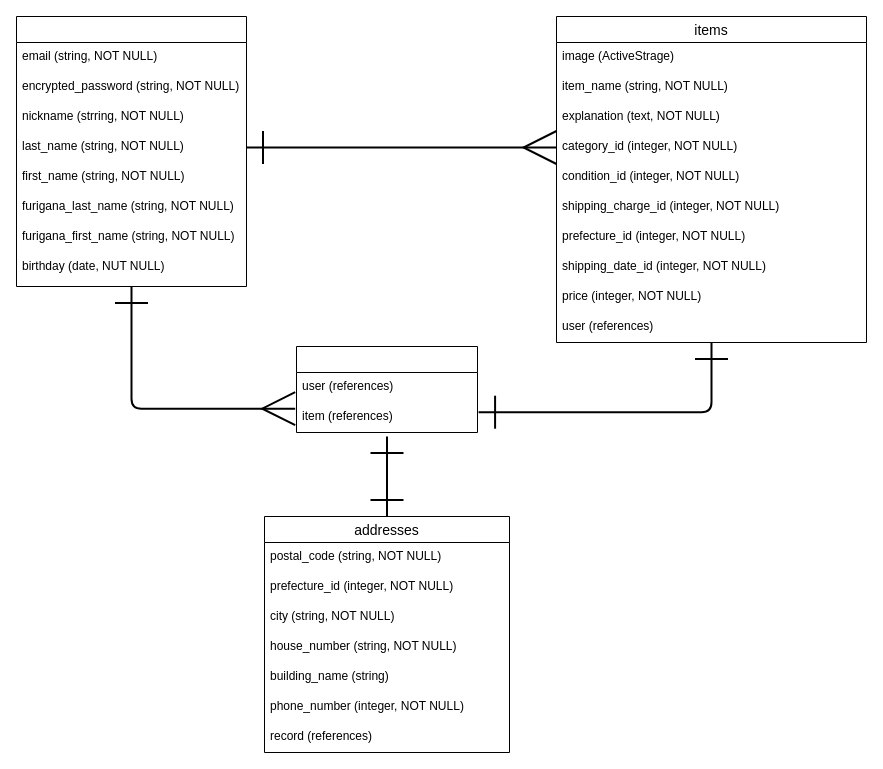
This 883x769 diagram has some shape labels left out. Here are the shapes that lost their labels. From the top down, the box of each, then its label:
(16, 16, 246, 286): users
(296, 346, 478, 432): records
